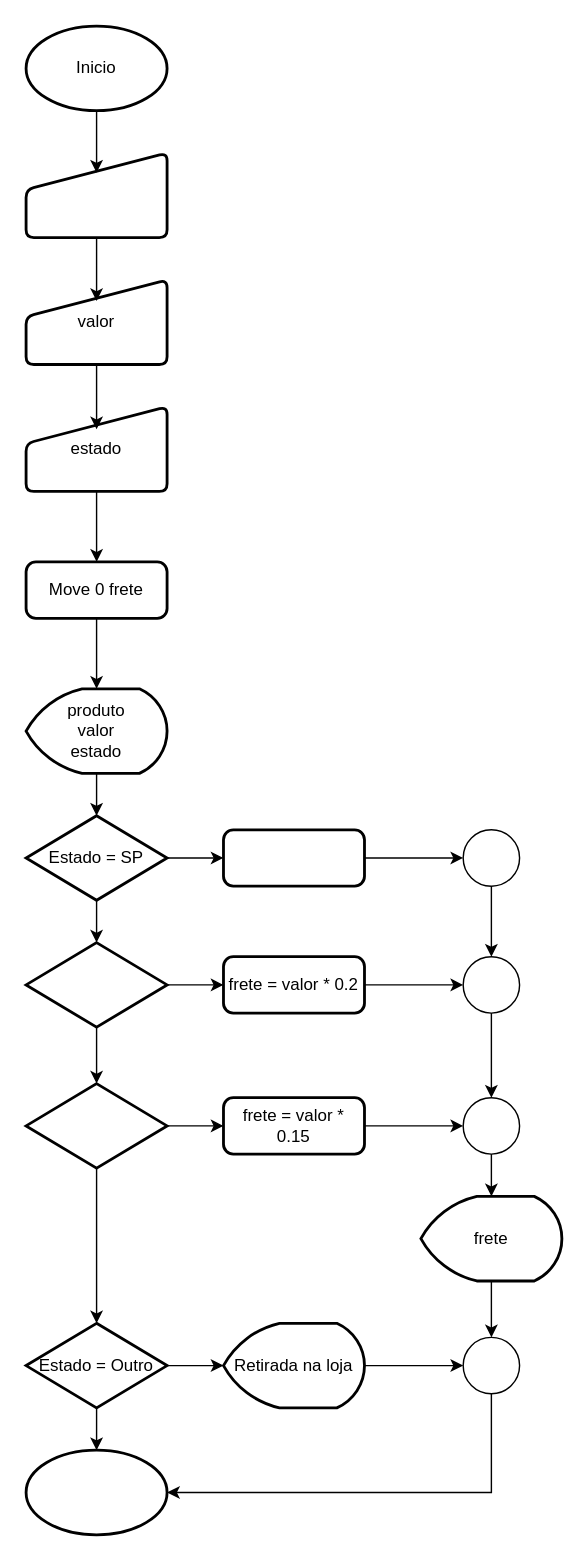
Some shapes in this 587 by 1559 pixel diagram are drawn without their labels. The centre of each missing label's shape, as x and y in pixels:
"Estado = MG" belongs at point 96,1125.
"Estado = RJ" belongs at point 96,984.
"Fim" belongs at point 96,1491.
"frete = valor * 0.1" belongs at point 293,857.
"produto" belongs at point 96,194.
